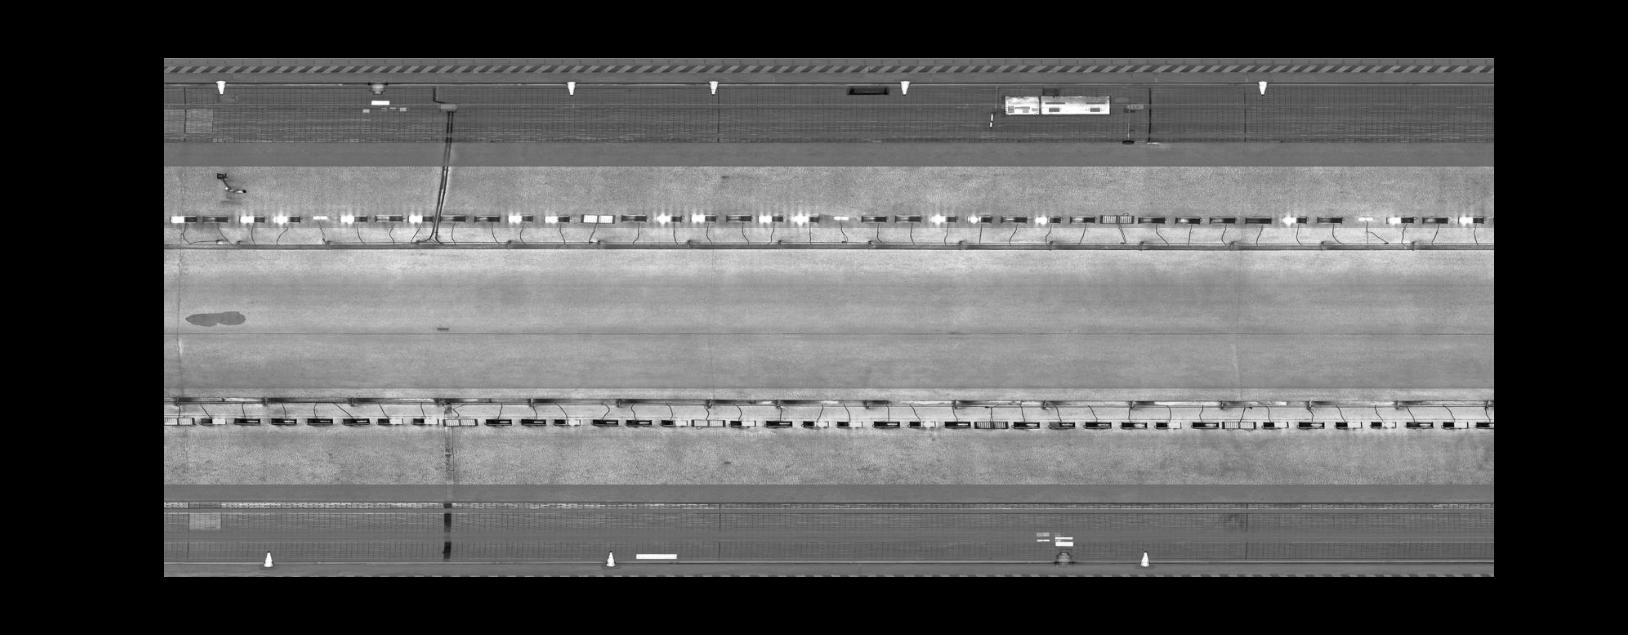light: (578, 210, 618, 226), (1098, 211, 1136, 226), (440, 414, 480, 429), (503, 210, 536, 226), (538, 210, 571, 226), (789, 210, 822, 226), (1219, 417, 1257, 431), (164, 413, 197, 429), (970, 417, 1011, 430), (654, 210, 686, 225), (1382, 212, 1418, 225), (1455, 212, 1485, 227), (270, 212, 302, 226), (722, 210, 754, 224), (754, 211, 786, 225), (689, 416, 727, 429), (1134, 213, 1168, 226), (1170, 213, 1204, 226), (1258, 417, 1293, 431), (619, 210, 650, 224), (371, 210, 404, 223), (404, 210, 437, 223), (1242, 213, 1275, 226), (1277, 213, 1310, 226), (727, 415, 760, 429), (195, 414, 230, 426), (1312, 213, 1345, 226), (1046, 418, 1078, 432), (1082, 417, 1114, 431), (482, 415, 516, 427), (516, 415, 550, 427), (589, 415, 623, 427), (928, 212, 959, 225), (1032, 213, 1063, 226), (1066, 212, 1097, 225), (1208, 213, 1239, 226), (1151, 417, 1183, 431), (337, 211, 371, 223), (762, 416, 795, 429), (1403, 418, 1436, 431), (1440, 418, 1473, 431), (302, 415, 337, 426), (340, 415, 372, 427), (551, 415, 584, 427), (799, 416, 832, 429), (1189, 418, 1221, 431), (1332, 417, 1364, 430), (689, 211, 718, 224), (904, 417, 939, 429), (858, 212, 889, 224), (892, 212, 923, 224), (1420, 214, 1451, 226), (375, 415, 406, 427), (235, 213, 268, 224), (964, 212, 994, 224), (1296, 418, 1326, 431), (167, 213, 199, 224), (198, 213, 230, 224), (230, 415, 263, 426), (1119, 418, 1148, 431), (998, 213, 1029, 224), (268, 415, 299, 426), (409, 415, 440, 426), (623, 416, 654, 427), (659, 416, 690, 427), (1367, 418, 1399, 430), (437, 213, 470, 223), (870, 418, 903, 429), (471, 212, 501, 223), (833, 418, 865, 429), (941, 418, 973, 429), (1010, 419, 1044, 429), (1474, 417, 1494, 429), (1355, 214, 1377, 223), (308, 212, 330, 219), (831, 214, 851, 221)
